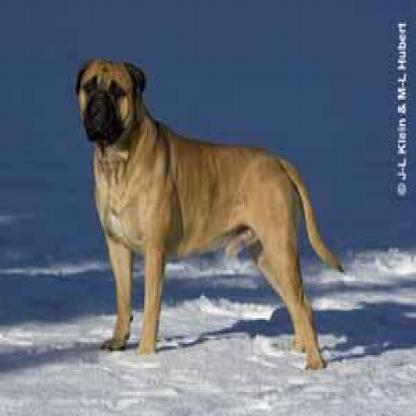bull_mastiff: (72, 59, 350, 372)
